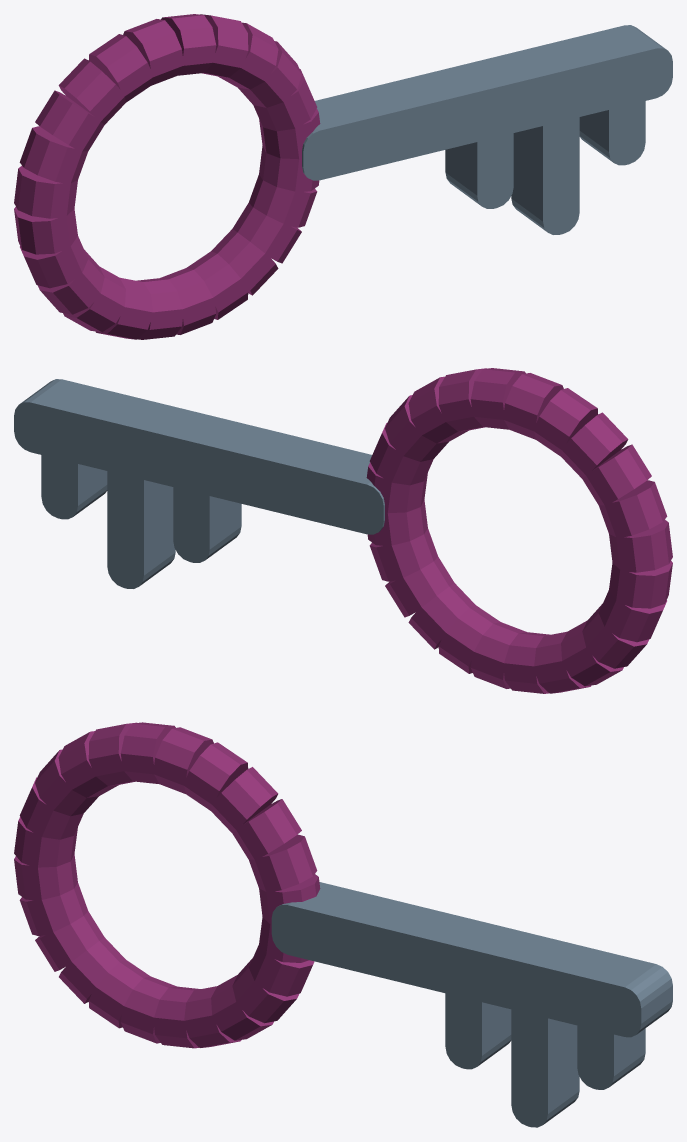
Rendered from key.glb.
3 renders of one model, top to bottom at view 1: azimuth 30°, elevation 25°; view 2: azimuth 150°, elevation 25°; view 3: azimuth 330°, elevation 25°, orthographic.
Visible parts, largest first — view 1: shaft, tooth 1, tooth 0, tooth 2, key ring10, key ring7, key ring8, key ring9, key ring11, key ring6, key ring12, key ring5 (+16 smaller); view 2: shaft, tooth 1, tooth 0, tooth 2, key ring10, key ring7, key ring8, key ring9, key ring11, key ring6, key ring12, key ring5 (+16 smaller); view 3: shaft, tooth 1, tooth 0, tooth 2, key ring1, key ring4, key ring3, key ring2, key ring5, key ring6, key ring14, key ring15 (+16 smaller).
Part boxes in pixels (left/top/right/bottom): shaft: left=302, top=25, right=672, bottom=180; tooth 1: left=511, top=103, right=579, bottom=234; tooth 0: left=445, top=119, right=513, bottom=208; tooth 2: left=579, top=87, right=645, bottom=165; key ring10: left=19, top=126, right=88, bottom=184; key ring7: left=88, top=34, right=153, bottom=102; key ring8: left=58, top=58, right=125, bottom=124; key ring9: left=35, top=90, right=104, bottom=151; key ring11: left=14, top=166, right=77, bottom=218; key ring6: left=123, top=19, right=183, bottom=85; key ring12: left=14, top=207, right=77, bottom=254; key ring5: left=161, top=14, right=216, bottom=75; shaft: left=14, top=379, right=384, bottom=534; tooth 1: left=107, top=457, right=175, bottom=588; tooth 0: left=173, top=473, right=241, bottom=562; tooth 2: left=41, top=442, right=107, bottom=519; key ring10: left=598, top=480, right=667, bottom=538; key ring7: left=533, top=388, right=598, bottom=456; key ring8: left=561, top=412, right=628, bottom=478; key ring9: left=582, top=444, right=651, bottom=505; key ring11: left=609, top=520, right=672, bottom=572; key ring6: left=503, top=373, right=563, bottom=439; key ring12: left=609, top=561, right=672, bottom=608; key ring5: left=470, top=368, right=525, bottom=429; shaft: left=271, top=882, right=672, bottom=1037; tooth 1: left=511, top=996, right=579, bottom=1127; tooth 0: left=445, top=981, right=511, bottom=1069; tooth 2: left=577, top=1012, right=645, bottom=1089; key ring1: left=249, top=834, right=317, bottom=891; key ring4: left=183, top=742, right=248, bottom=810; key ring3: left=211, top=767, right=278, bottom=833; key ring2: left=232, top=799, right=301, bottom=859; key ring5: left=154, top=727, right=213, bottom=793; key ring6: left=120, top=722, right=175, bottom=784; key ring14: left=35, top=911, right=104, bottom=971; key ring15: left=59, top=937, right=125, bottom=1003.
Bounding box in the file's own units: 1.75 × 0.8228 × 0.15.
